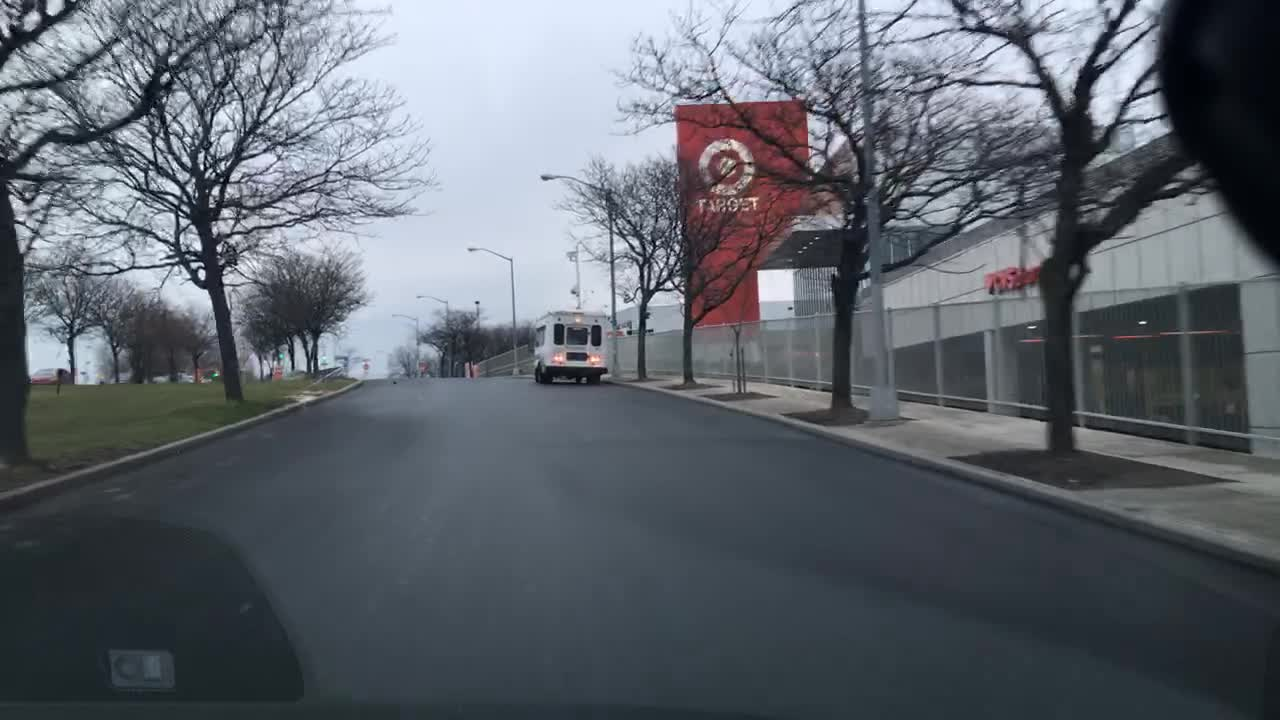bus: (532, 311, 609, 381)
car: (29, 367, 73, 386), (150, 368, 191, 384), (109, 368, 129, 384)
traffic light: (274, 350, 284, 363), (212, 368, 220, 379)
